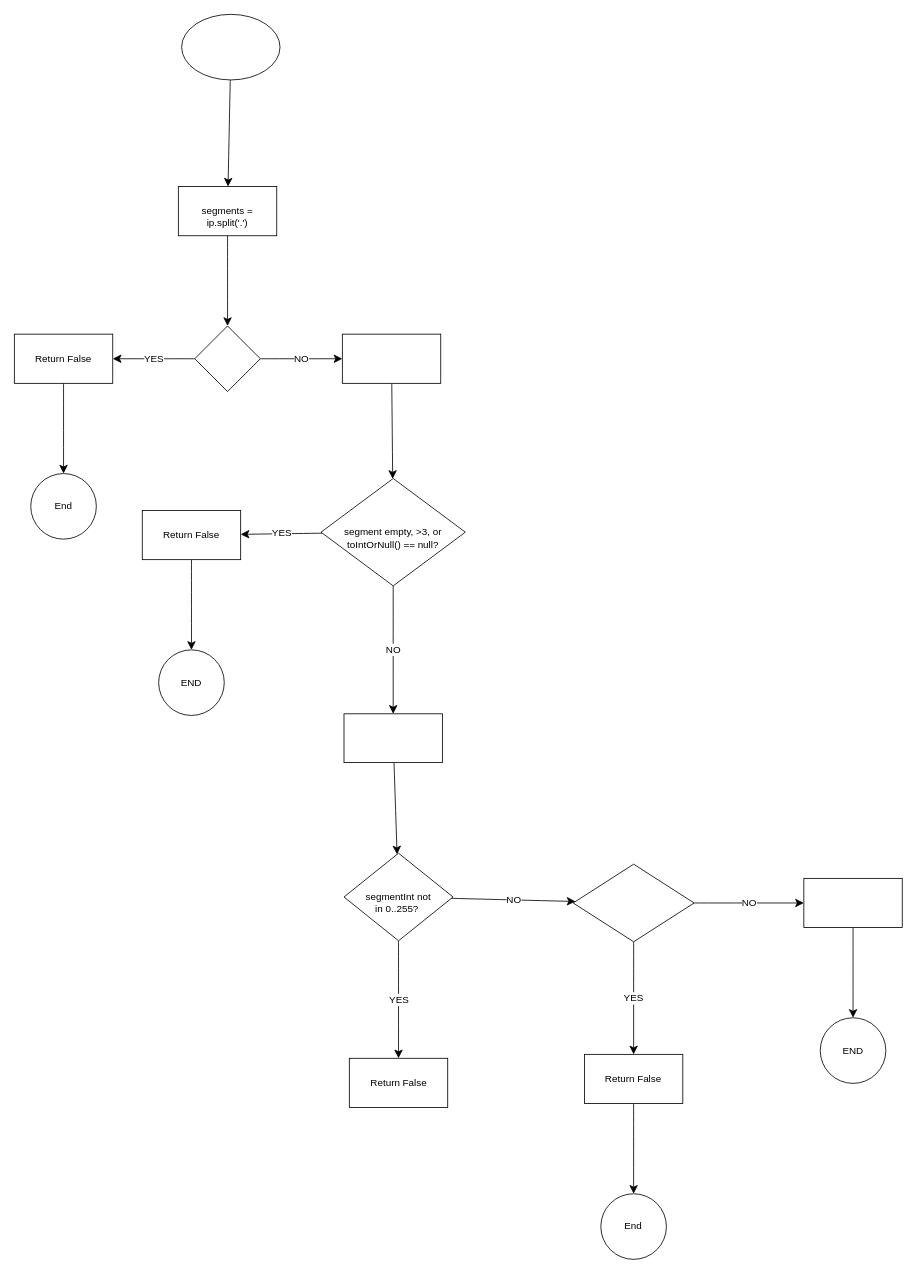
Some shapes in this 917 by 1274 pixel diagram are drawn without their labels. The centre of each missing label's shape, as x and y in pixels:
"For each segment in segemnets" belongs at (391,358).
"Return True" belongs at (852,903).
"segment starts with '0' and != '0'?" belongs at (633,902).
"segment.size != 4?" belongs at (227,358).
"segmentInt = segment.toInt()" belongs at (392,738).
"START" belongs at (230,47).
